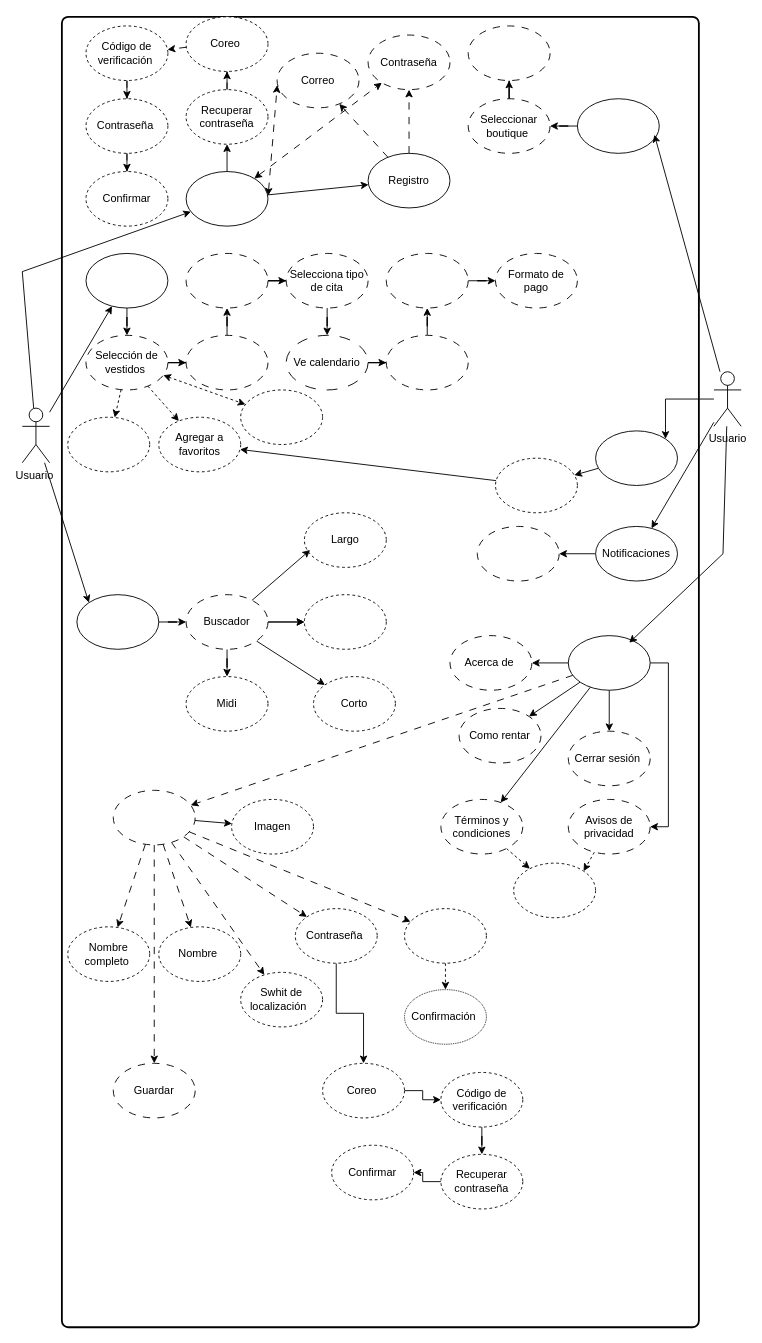
This 762x1343 diagram has some shape labels left out. The shapes that lost their labels are listed below. From the top down, each one's centre as x and y in pixels, then its label:
At [508,53]: "Recomienda la mas cercana".
At [617,125]: "Listado de boutiques".
At [226,198]: "Inicio de sesión".
At [126,280]: "Ver vestidos".
At [226,280]: "Selecciona color".
At [426,280]: "Método de pago".
At [226,362]: "Selecciona talla".
At [426,362]: "Ve los horarios".
At [281,417]: "Agregar al carrito".
At [108,444]: "Agrandar imagen de vestido".
At [636,457]: "Favoritos".
At [536,485]: "Seleccionar vestidos".
At [517,553]: "Listados de notificaciones".
At [117,621]: "Barra de búsqueda".
At [344,621]: "Todos".
At [608,662]: "Perfil".
At [153,817]: "Editar perfil".
At [554,890]: "Scroll con información".
At [445,935]: "E-mail".
